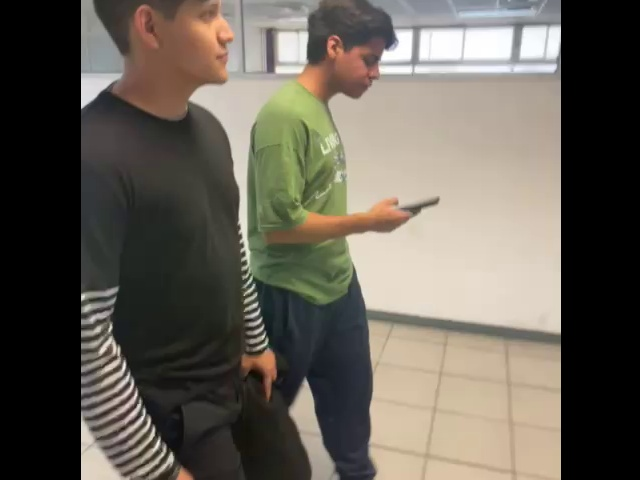mixto2: (393, 186, 451, 223)
